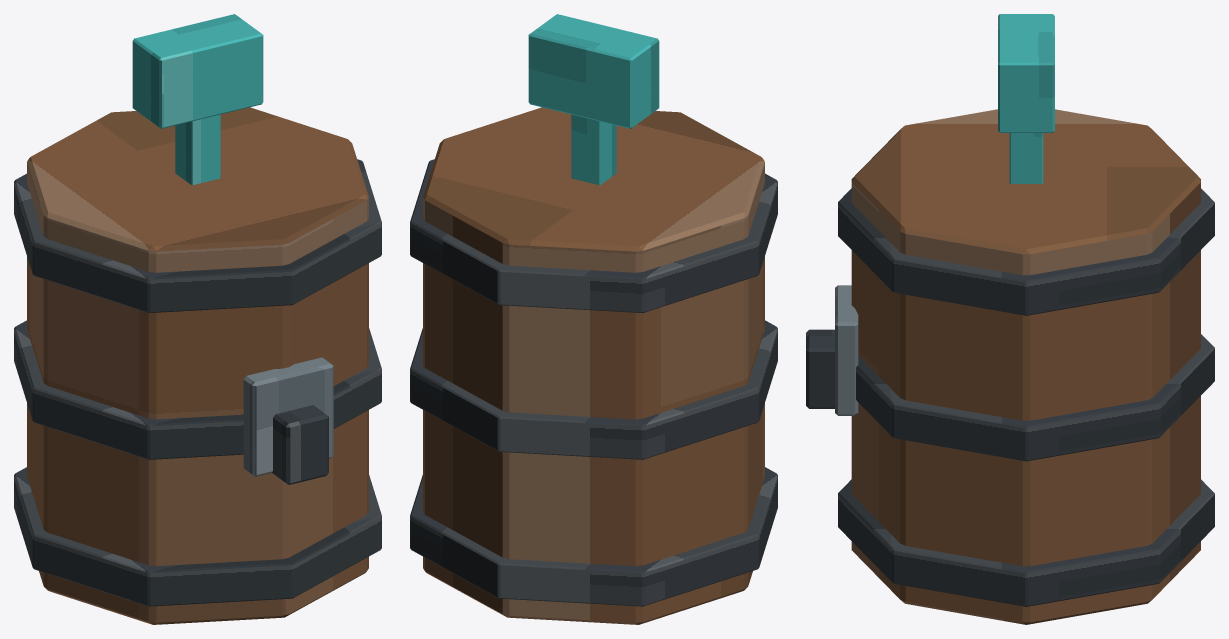
Rendered from locked_relay_barrel.glb.
The picture shows the model from 3 angles, left to right: view 1: azimuth 30°, elevation 25°; view 2: azimuth 150°, elevation 25°; view 3: azimuth 270°, elevation 25°; orthographic projection.
Visible parts, largest first — view 1: BarrelBody, IronBand_0.71, IronBand_0.09, IronBand_0.4, RelaySignalHead, LockPlate, Padlock, RelayAntenna; view 2: BarrelBody, IronBand_0.71, IronBand_0.4, IronBand_0.09, RelaySignalHead, RelayAntenna; view 3: BarrelBody, IronBand_0.09, IronBand_0.71, IronBand_0.4, RelaySignalHead, LockPlate, Padlock, RelayAntenna.
Boxes of the visible parts, box(x1,y1,x2,y2) form: BarrelBody: box(27, 107, 368, 624); IronBand_0.71: box(14, 159, 381, 312); IronBand_0.09: box(14, 467, 381, 606); IronBand_0.4: box(14, 320, 381, 459); RelaySignalHead: box(132, 14, 263, 128); LockPlate: box(243, 357, 333, 476); Padlock: box(272, 405, 328, 484); RelayAntenna: box(175, 114, 220, 185); BarrelBody: box(423, 107, 764, 624); IronBand_0.71: box(410, 159, 777, 312); IronBand_0.4: box(410, 320, 777, 459); IronBand_0.09: box(410, 467, 777, 606); RelaySignalHead: box(528, 14, 659, 128); RelayAntenna: box(571, 114, 616, 185); BarrelBody: box(851, 109, 1200, 624); IronBand_0.09: box(838, 479, 1214, 606); IronBand_0.71: box(838, 188, 1214, 315); IronBand_0.4: box(856, 334, 1214, 461); RelaySignalHead: box(998, 14, 1054, 132); LockPlate: box(835, 285, 858, 415); Padlock: box(806, 329, 834, 408); RelayAntenna: box(1009, 133, 1043, 183).
Bounding box in the file's own units: 0.7277 × 1.09 × 0.7889.
Materials: 1 (1 with a texture image).
